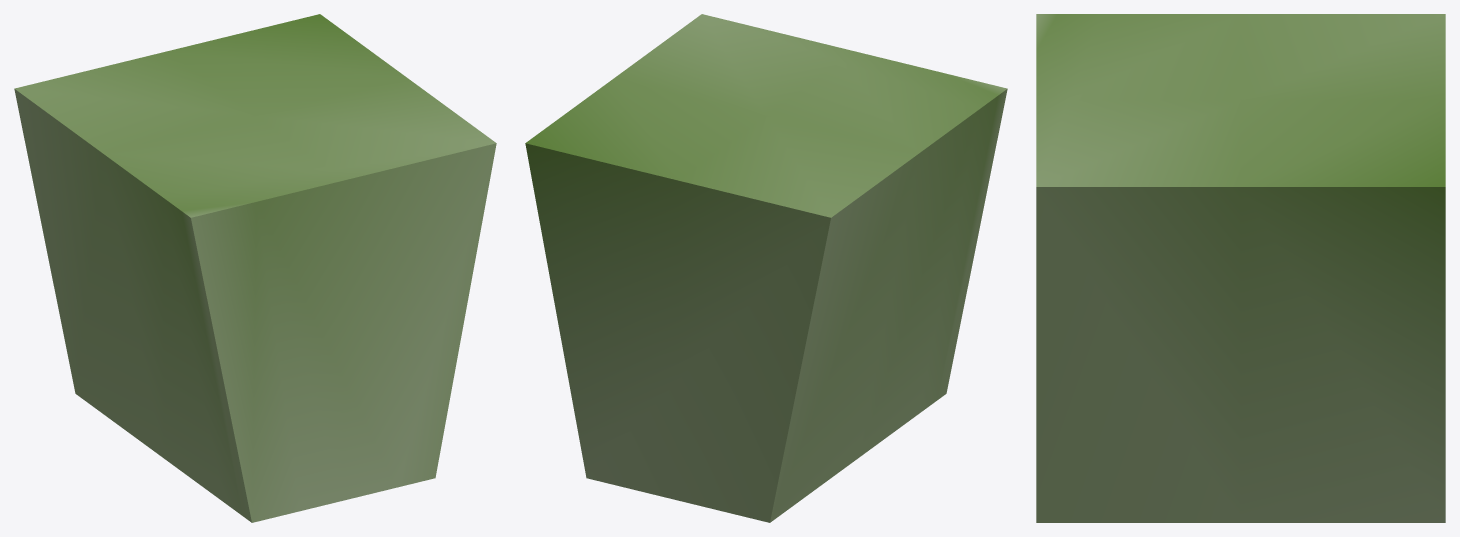
File: T2DirL.fbx
3 views of the same model, side by side, from view 1: azimuth 30°, elevation 25°; view 2: azimuth 150°, elevation 25°; view 3: azimuth 270°, elevation 25° (orthographic). The views are drawn at different scales.
Visible parts, largest first — view 1: 3, 1, 4, 2; view 2: 4, 2, 3, 1; view 3: 1, 2, 3, 4.
Boxes of the visible parts, x1,y1,x2,y2 form: 3: [102, 116, 343, 522]; 1: [256, 78, 496, 500]; 4: [14, 51, 254, 457]; 2: [167, 14, 407, 115]; 4: [678, 116, 919, 522]; 2: [525, 78, 765, 500]; 3: [767, 51, 1007, 457]; 1: [614, 14, 854, 115]; 1: [1036, 100, 1240, 522]; 2: [1241, 100, 1445, 522]; 3: [1036, 14, 1240, 100]; 4: [1241, 14, 1445, 100].
Size of the model in its own units: 200 by 200 by 200.
